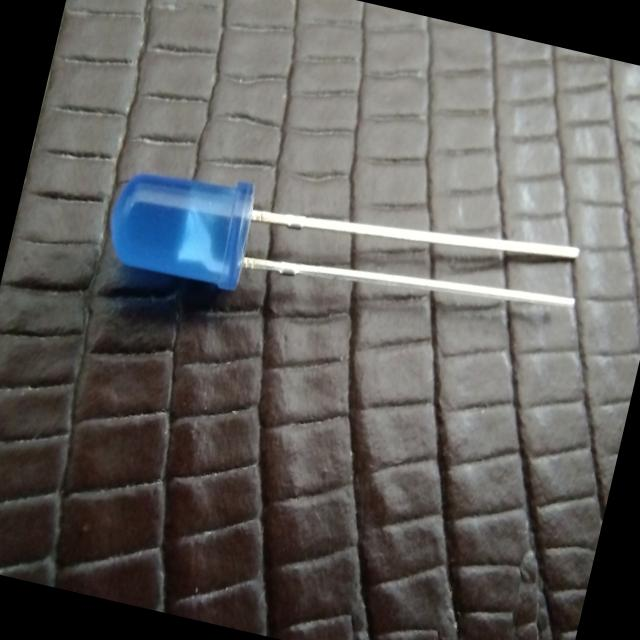blue_led: (98, 152, 261, 294)
